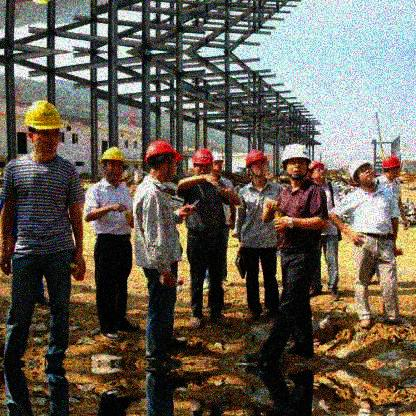helmet: (24, 100, 64, 152), (144, 140, 182, 180), (281, 143, 308, 178), (99, 147, 125, 178), (350, 158, 375, 186), (190, 148, 213, 174), (246, 149, 268, 176), (308, 159, 326, 180), (383, 157, 400, 176), (211, 152, 222, 171)
